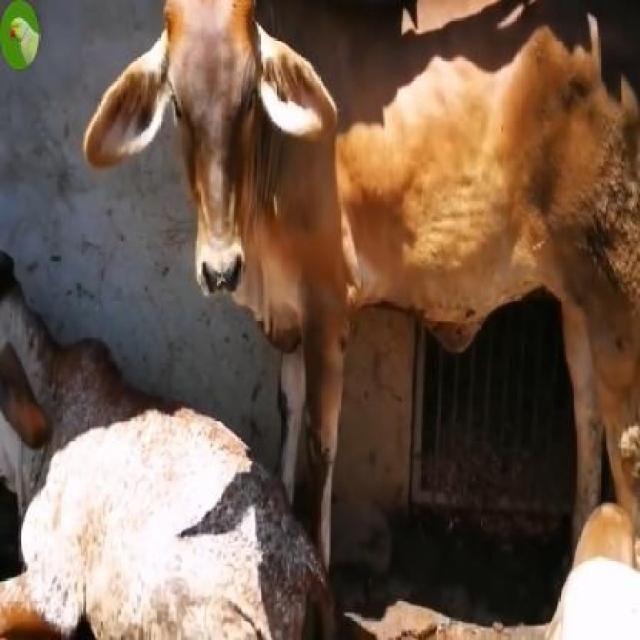Cow: (74, 0, 348, 342)
